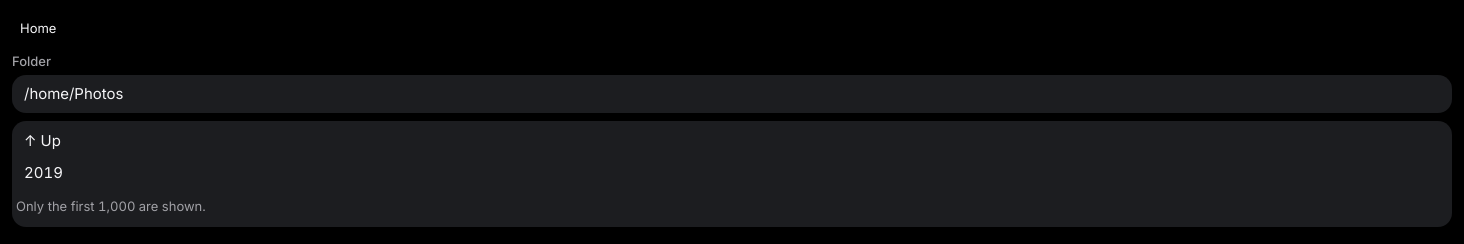
FolderPicker › a folder that cannot be read: the reason, an empty list, nothing picked
Expected: the button "2019" is shown, x1=16 y1=157 x2=1448 y2=189
Step 1. Replace the text in the field labelled "Folder" with "/root" → [732, 94], box x1=12 y1=75 x2=1452 y2=113
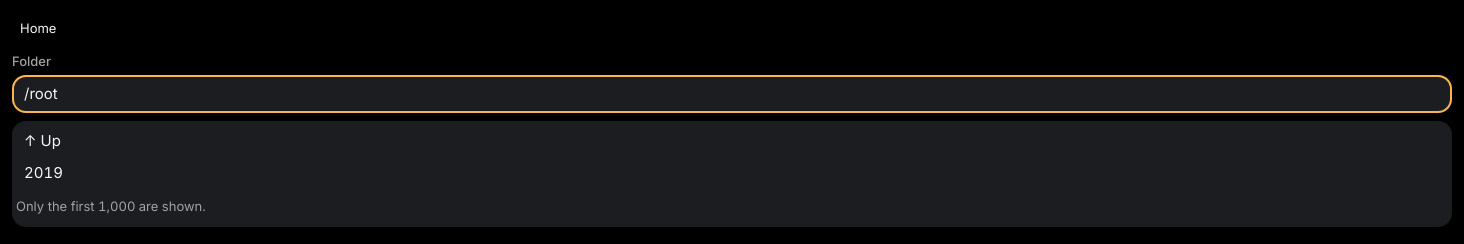
Step 2. Press Enter in the field labelled "Folder", box x1=12 y1=75 x2=1452 y2=113
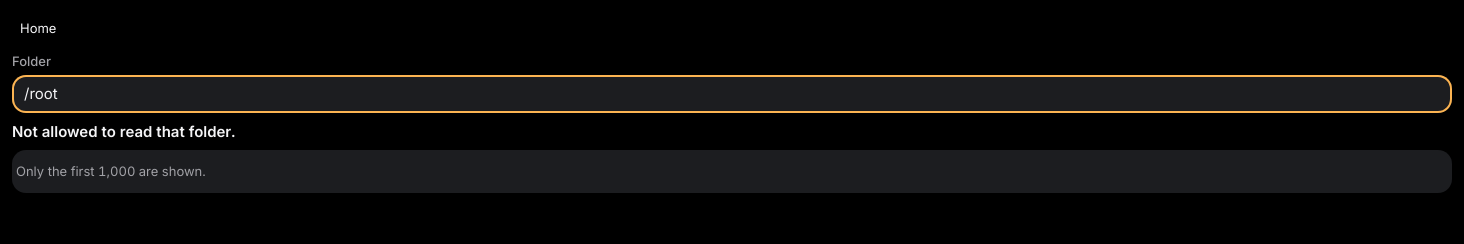
Expected: the list named "Folders inside" is shown, x1=12 y1=150 x2=1452 y2=193
Expected: the message reads "Not allowed to read that folder.", x1=12 y1=122 x2=235 y2=141
